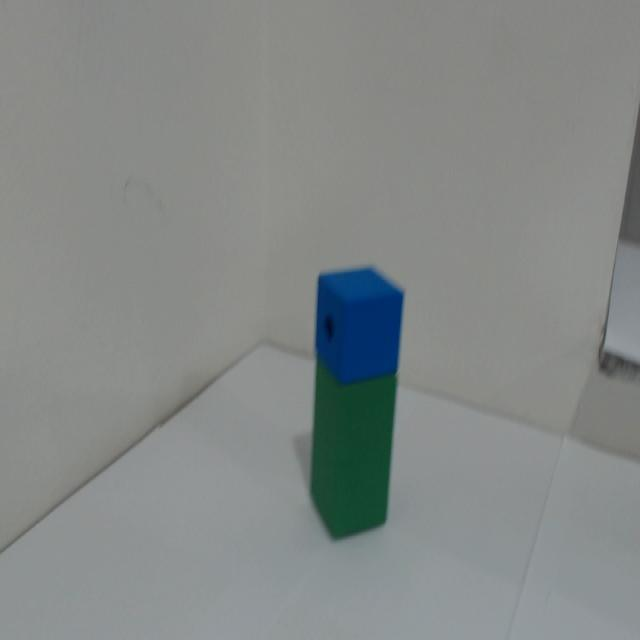cube: (307, 242, 430, 387)
